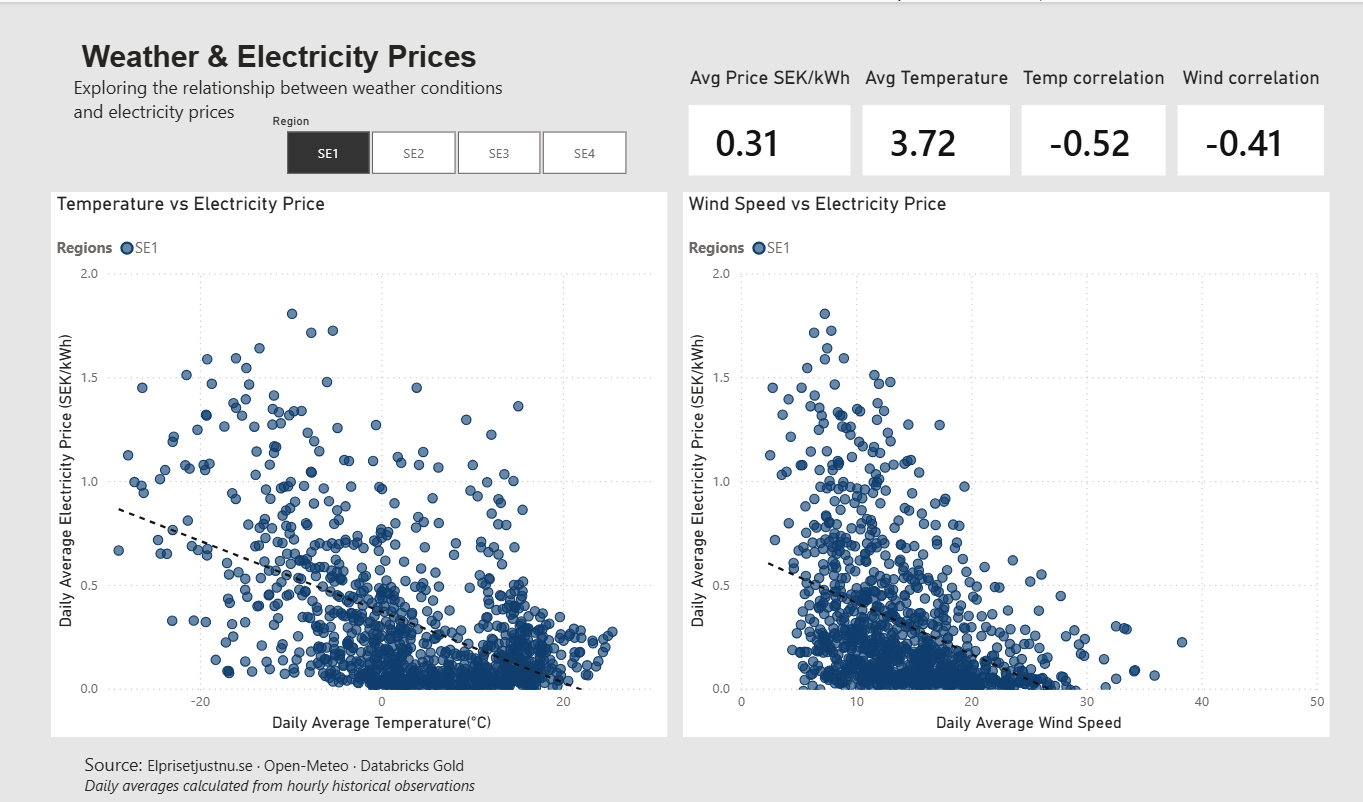

Layout of this report page (visuals, bound fields, positions):
{"tool":"powerbi","page":{"name":"Weather & Electricity","canvas":[1280,720],"ordinal":1},"visuals":[{"type":"textbox","box":[116.4,29.6,408.4,87.8],"z":0},{"type":"cardVisual","title":"Avg Price SEK/kWh","fields":{"Data":["Measures list.Average Electricity Price"]},"box":[667.2,57.3,155.9,103.9],"z":0,"group":"g1"},{"type":"cardVisual","title":"Avg Temperature","fields":{"Data":["Measures list.Average Temperature"]},"box":[823.1,57.3,142.6,103.9],"z":1000,"group":"g1"},{"type":"textbox","box":[126.4,666.3,364.7,53.5],"z":1000},{"type":"cardVisual","title":"Temp correlation","fields":{"Data":["Measures list.Temperature Price Correlation"]},"box":[965.7,57.3,139.1,103.9],"z":2000,"group":"g1"},{"type":"scatterChart","title":"Temperature vs Electricity Price","fields":{"Category":["DimDate.Date"],"Series":["electricity_weather.region"],"X":["Measures list.Average Temperature"],"Y":["Measures list.Average Electricity Price"]},"box":[101.2,170.1,551.6,488.1],"z":2000},{"type":"cardVisual","title":"Wind correlation","fields":{"Data":["Measures list.Wind Price Correlation"]},"box":[1104.8,57.3,141.8,103.9],"z":3000,"group":"g1"},{"type":"slicer","fields":{"Values":["electricity_weather.region"]},"box":[286.6,94.9,353.7,66.3],"z":3000},{"type":"scatterChart","title":"Wind Speed vs Electricity Price","fields":{"Category":["DimDate.Date"],"Series":["electricity_weather.region"],"X":["Measures list.Average Wind Speed"],"Y":["Measures list.Average Electricity Price"]},"box":[667.2,170.1,579.4,488.1],"z":4000},{"type":"group","id":"g1","title":"Group 1","box":[667.2,57.3,579.4,103.9],"z":8005}]}

Visuals, with their boxes on the page's 1280x720 design canvas (x1, y1, x2, y2). These are canvas units, not pixel positions in the 1363x802 screenshot, which may show the page scaled, cropped or inside an application window:
textbox: [116,30,525,117]
"Avg Price SEK/kWh" cardVisual: [667,57,823,161]
"Avg Temperature" cardVisual: [823,57,966,161]
textbox: [126,666,491,720]
"Temp correlation" cardVisual: [966,57,1105,161]
"Temperature vs Electricity Price" scatterChart: [101,170,653,658]
"Wind correlation" cardVisual: [1105,57,1247,161]
slicer - electricity_weather.region: [287,95,640,161]
"Wind Speed vs Electricity Price" scatterChart: [667,170,1247,658]
"Group 1" group: [667,57,1247,161]
